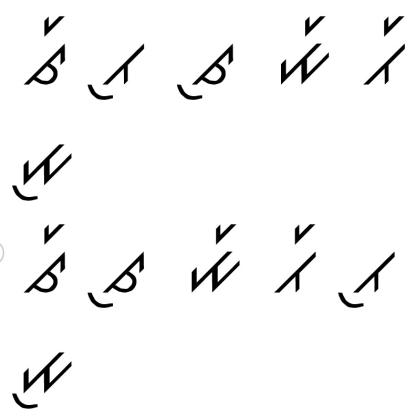bar: (265, 215, 320, 298), (361, 14, 407, 87)
baw: (335, 241, 397, 315), (83, 34, 147, 104)
car: (23, 13, 69, 92), (24, 221, 69, 299)
caw: (171, 38, 240, 103), (84, 243, 149, 312)
mar: (184, 217, 247, 296), (276, 10, 332, 90)
maw: (8, 133, 74, 201), (11, 345, 75, 413)
